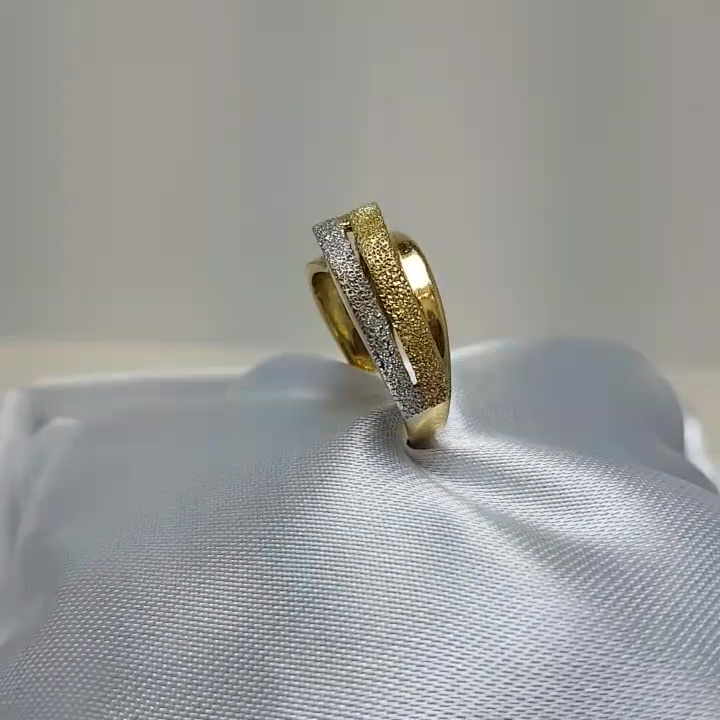Ring 5: (275, 191, 472, 469)
